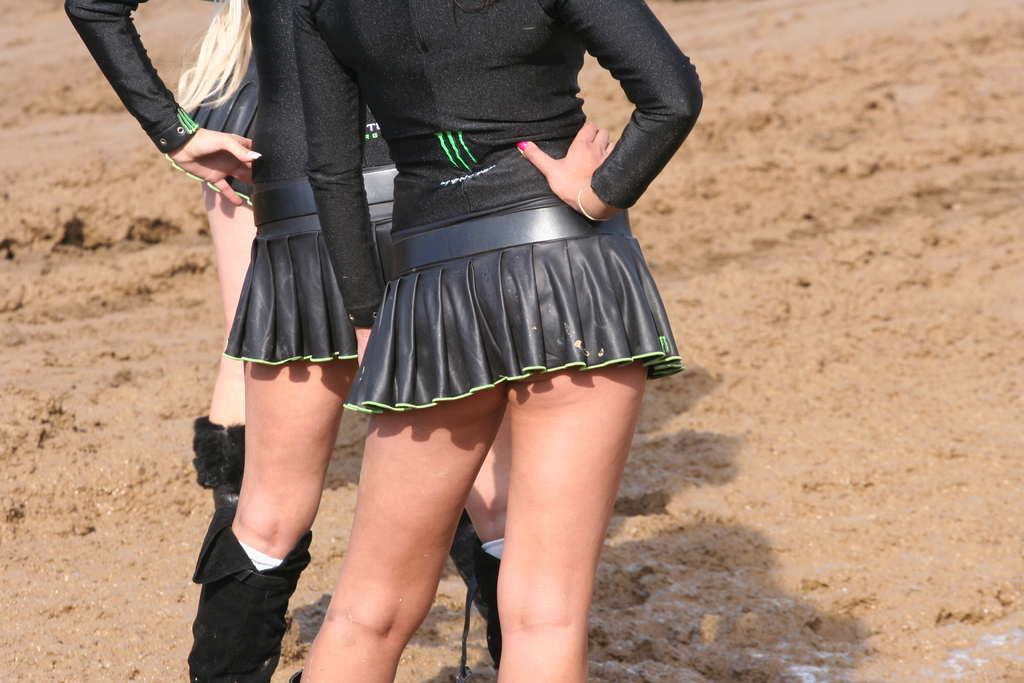Human_hand: (516, 119, 616, 220), (167, 129, 263, 205)
